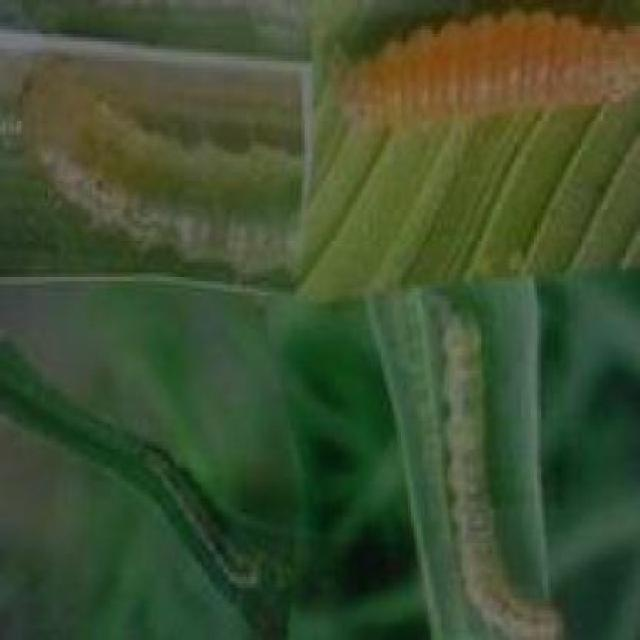leaf-folder: (21, 55, 301, 271), (406, 300, 574, 640), (332, 1, 640, 161), (120, 415, 280, 616)
